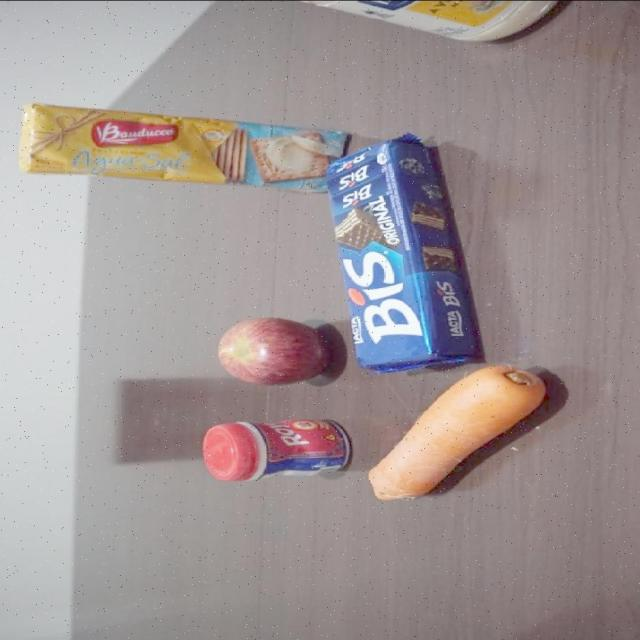Apple: (214, 316, 330, 387)
Carrot: (368, 363, 555, 500)
Cracker: (9, 100, 354, 195)
Mayonnaise: (251, 0, 584, 44)
Yeast: (199, 417, 353, 481)
